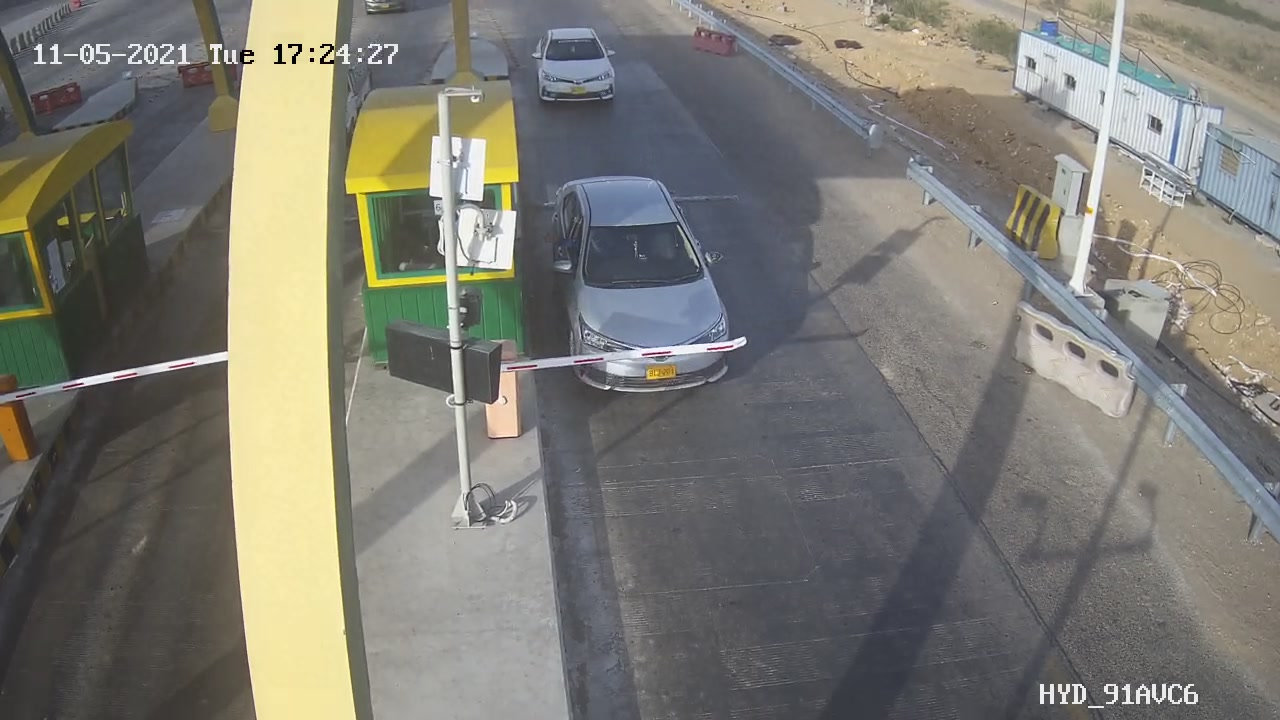F1: (531, 165, 743, 409), (518, 17, 631, 120)
